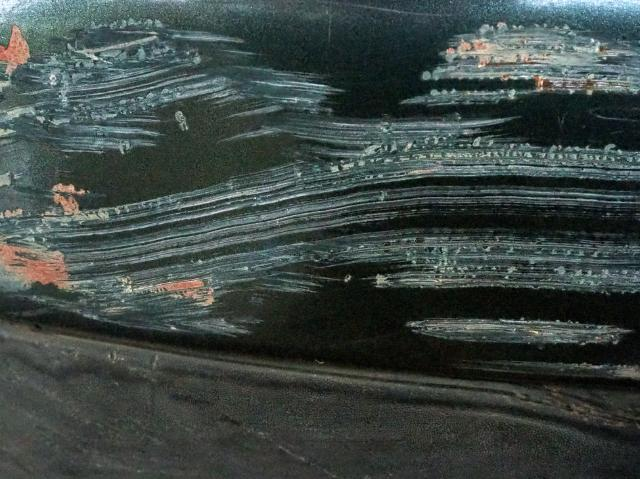Door: (0, 0, 640, 433)
